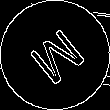M_SE: (21, 21, 89, 89)
